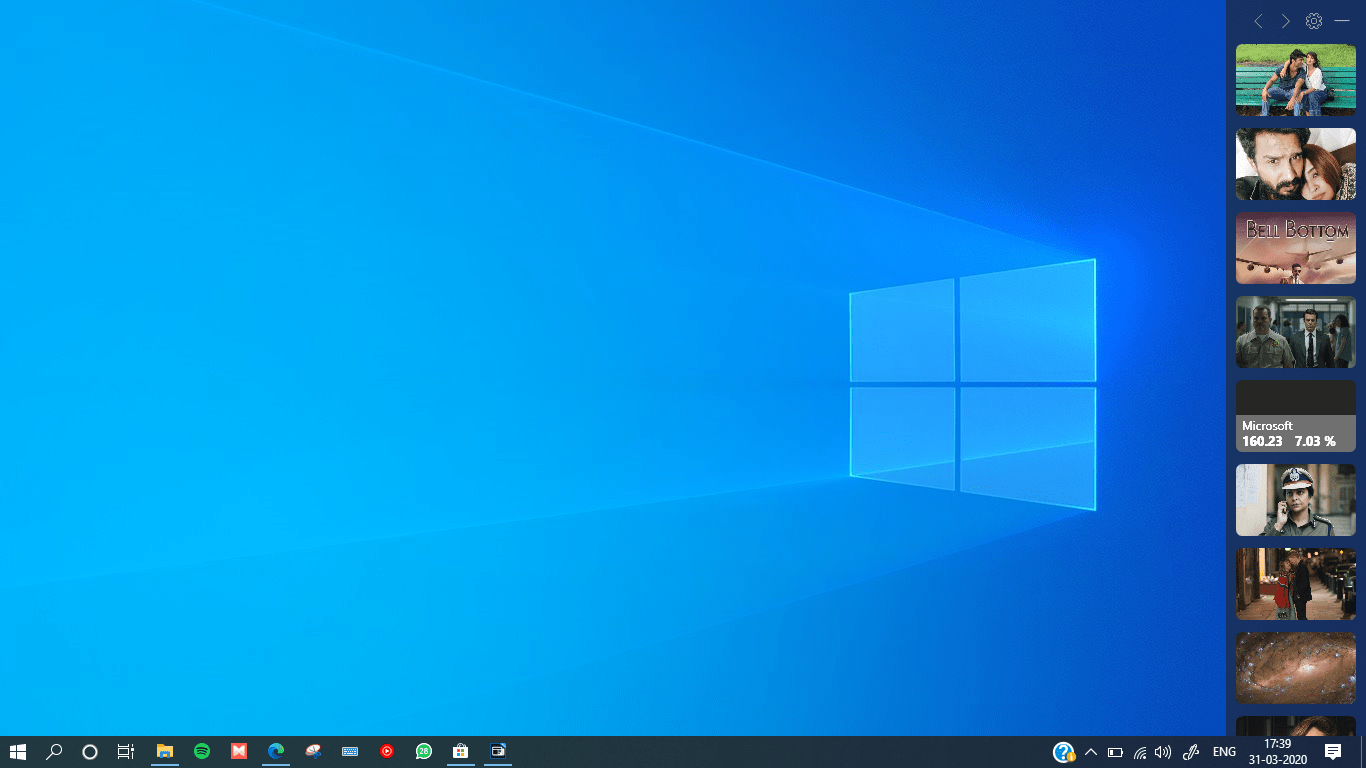start_bar: (4, 738, 37, 768)
